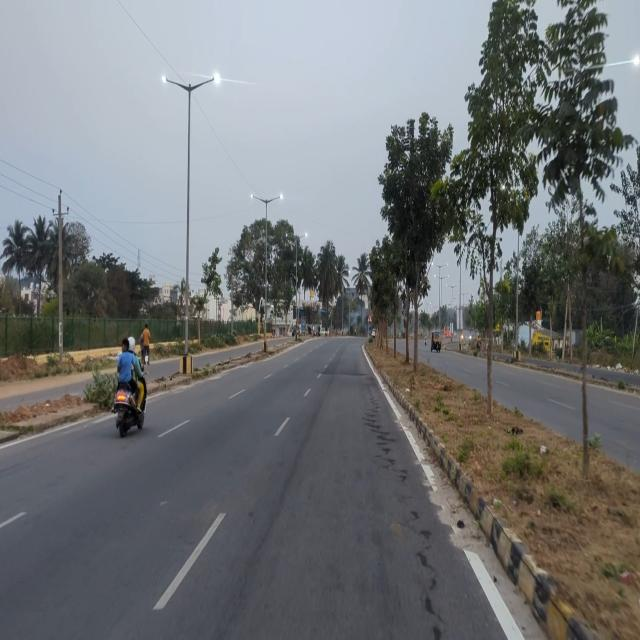bien_cam: (367, 312, 373, 324)
